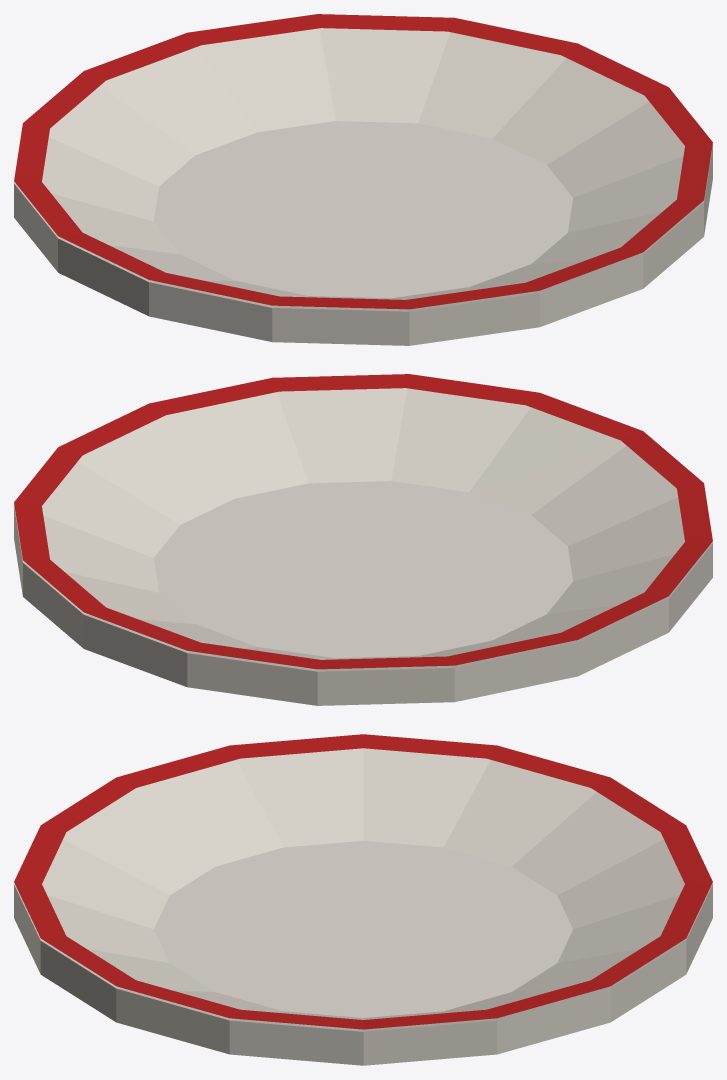
Rendered from dish_plate.obj.
3 renders of one model, top to bottom at view 1: azimuth 30°, elevation 25°; view 2: azimuth 150°, elevation 25°; view 3: azimuth 270°, elevation 25°, orthographic.
Parts seen in each view (by area): view 1: dish_plate; view 2: dish_plate; view 3: dish_plate.
Part boxes in pixels (x1,y1,x2,y2): dish_plate: (14,14,712,345); dish_plate: (14,374,712,705); dish_plate: (14,734,712,1065).
Size of the model in its own units: 0.28 by 0.036 by 0.28.
